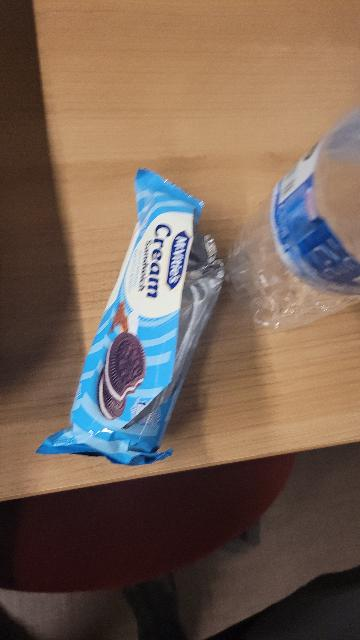Plastik: (37, 167, 244, 471), (239, 109, 360, 336)
